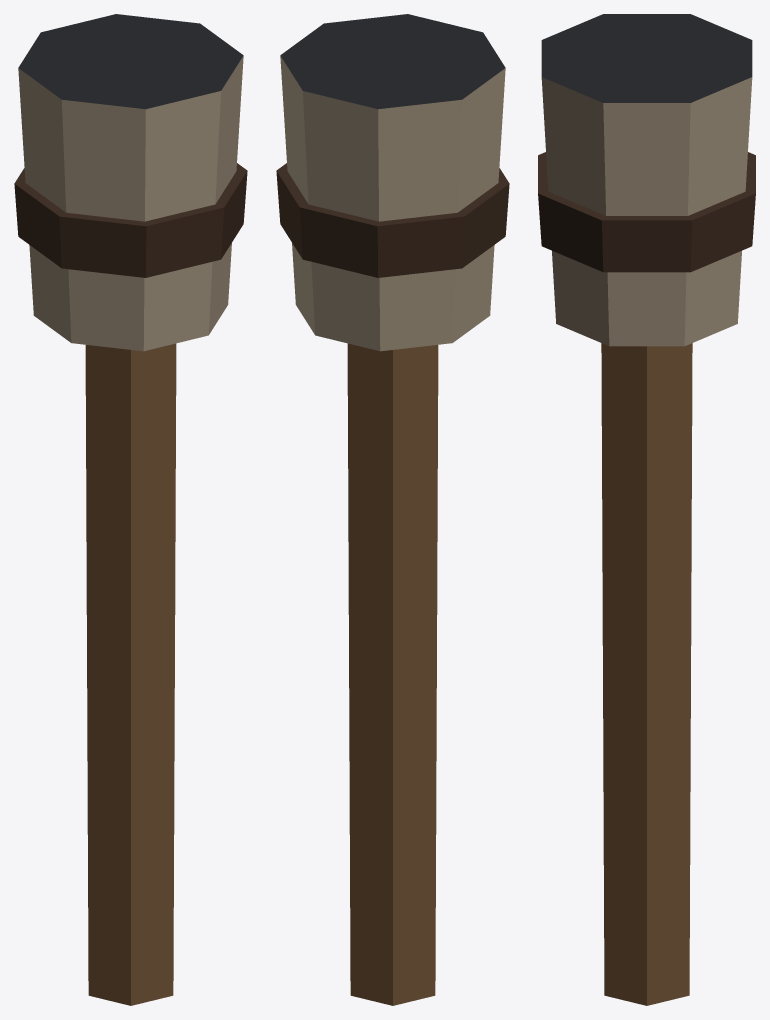
File: torch.glb
3 views of the same model, side by side, from view 1: azimuth 30°, elevation 25°; view 2: azimuth 150°, elevation 25°; view 3: azimuth 270°, elevation 25° (orthographic).
Visible parts, largest first — view 1: Head, Handle; view 2: Head, Handle; view 3: Head, Handle.
Boxes of the visible parts, x1,y1,x2,y2 form: Head: (14, 14, 247, 351); Handle: (85, 343, 176, 1005); Head: (276, 14, 509, 351); Handle: (347, 343, 438, 1005); Head: (538, 14, 755, 346); Handle: (601, 343, 692, 1005).
Size of the model in its own units: 0.1109 by 0.52 by 0.1109.
